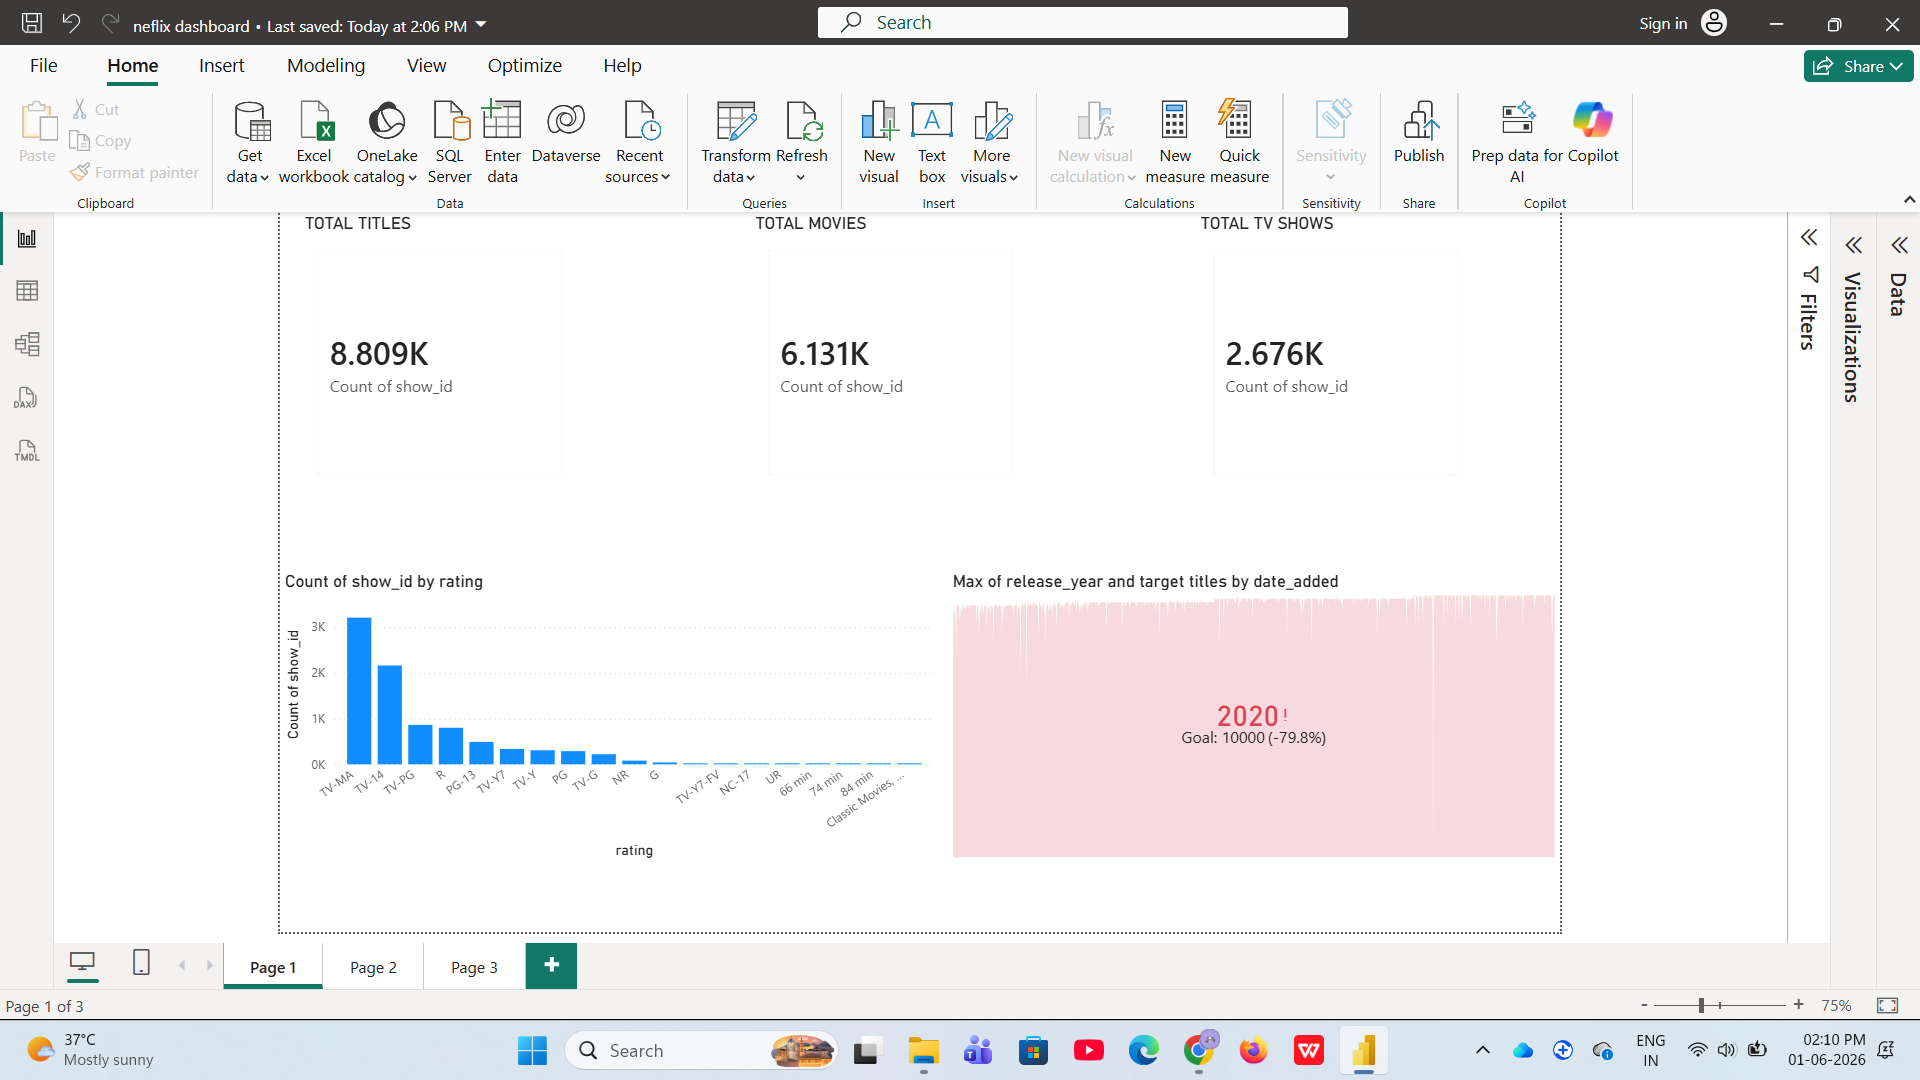

The page's visual inventory and layout, read from the dashboard file:
{"tool":"powerbi","page":{"name":"Page 1","canvas":[1280,720],"ordinal":0},"visuals":[{"type":"cardVisual","title":"TOTAL TITLES","fields":{"Data":["CountNonNull(netflix_titles.show_id)"]},"box":[19.6,1.5,279.4,279.4],"z":0},{"type":"cardVisual","title":"TOTAL MOVIES","fields":{"Data":["CountNonNull(netflix_titles.show_id)"]},"box":[469.7,1.5,279.4,279.4],"z":1000},{"type":"cardVisual","title":"TOTAL TV SHOWS","fields":{"Data":["CountNonNull(netflix_titles.show_id)"]},"box":[915.2,1.5,279.4,279.4],"z":2000},{"type":"columnChart","fields":{"Category":["netflix_titles.rating"],"Y":["CountNonNull(netflix_titles.show_id)"]},"box":[0,359.4,658.4,291.5],"z":3000},{"type":"kpi","fields":{"Indicator":["Max(netflix_titles.release_year)"],"TrendLine":["netflix_titles.date_added"],"Goal":["netflix_titles.target titles"]},"box":[668,359,612,291],"z":4000}]}

Visuals, with their boxes on the page's 1280x720 design canvas (x1, y1, x2, y2). These are canvas units, not pixel positions in the 1920x1080 screenshot, which may show the page scaled, cropped or inside an application window:
"TOTAL TITLES" cardVisual: <bbox>20, 2, 299, 281</bbox>
"TOTAL MOVIES" cardVisual: <bbox>470, 2, 749, 281</bbox>
"TOTAL TV SHOWS" cardVisual: <bbox>915, 2, 1195, 281</bbox>
columnChart - netflix_titles.rating x CountNonNull(netflix_titles.show_id): <bbox>0, 359, 658, 651</bbox>
kpi - Max(netflix_titles.release_year) x netflix_titles.date_added: <bbox>668, 359, 1280, 650</bbox>
